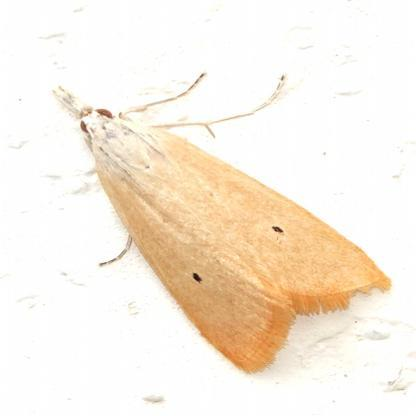stem-borer: (46, 70, 392, 376)
